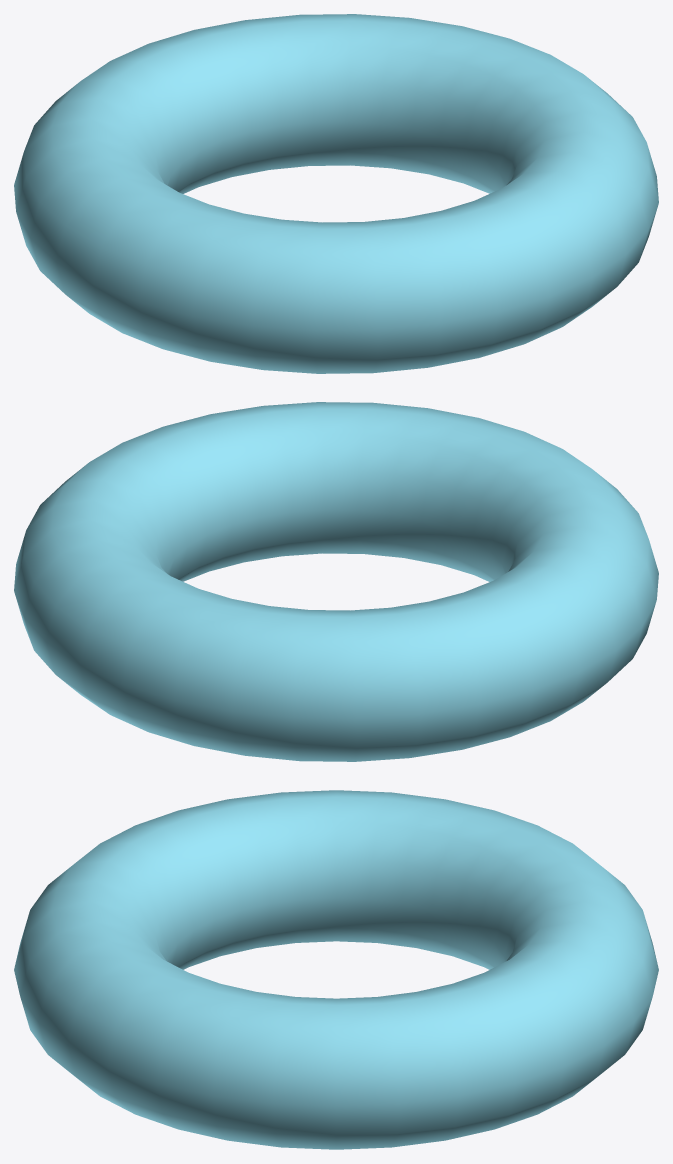
3 views of the same model, one above another, from view 1: azimuth 30°, elevation 25°; view 2: azimuth 150°, elevation 25°; view 3: azimuth 270°, elevation 25° (orthographic).
Size of the model in its own units: 1.7 by 0.4 by 1.7.
